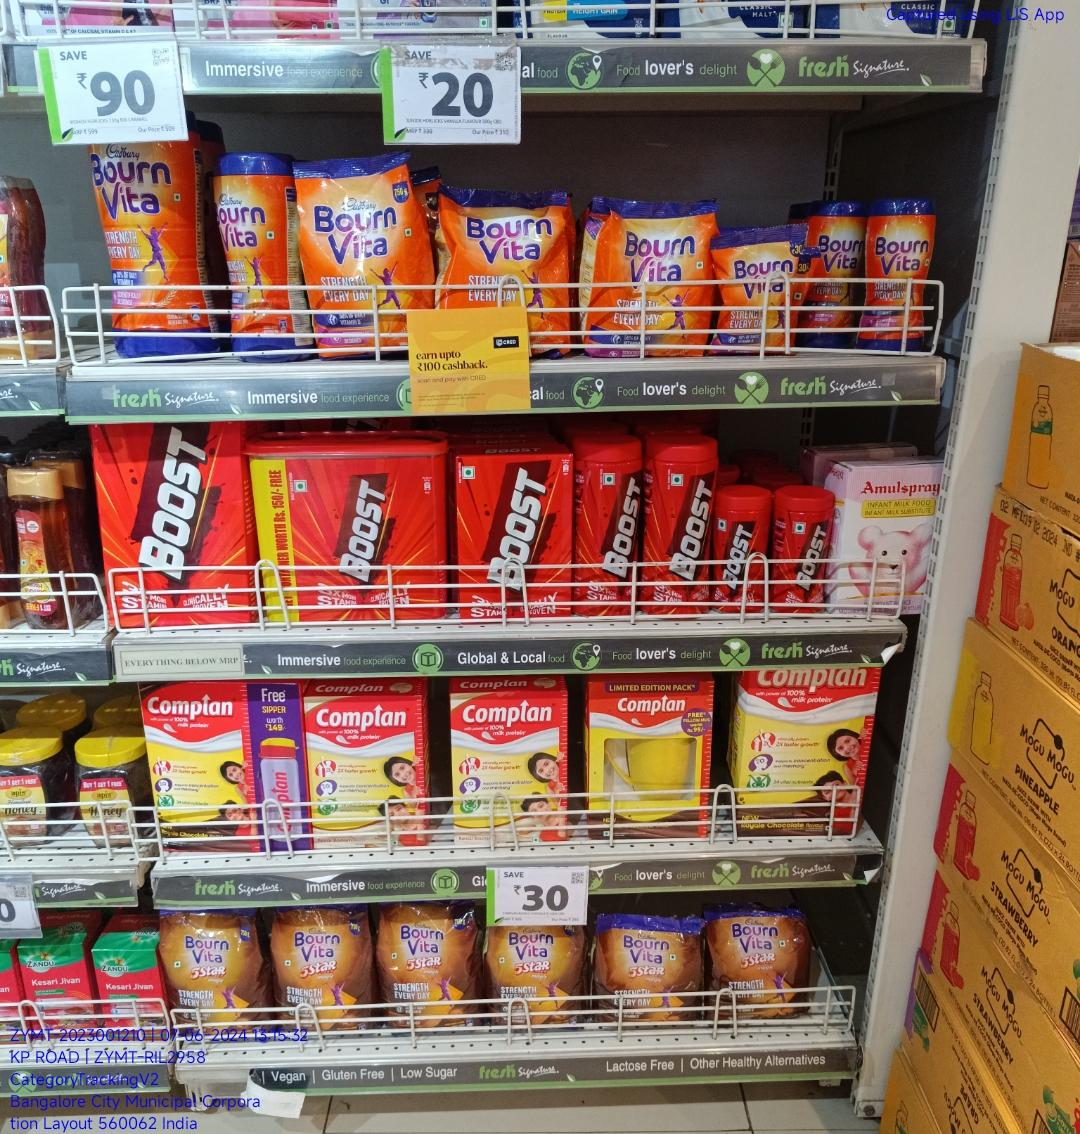BOURN_VITA_FIVE_STAR_MAGIC_500_G_POUCH: (392, 909, 483, 1026), (712, 917, 813, 1019), (600, 917, 699, 1021), (279, 908, 365, 1026), (494, 926, 587, 1028), (178, 914, 254, 1012)
